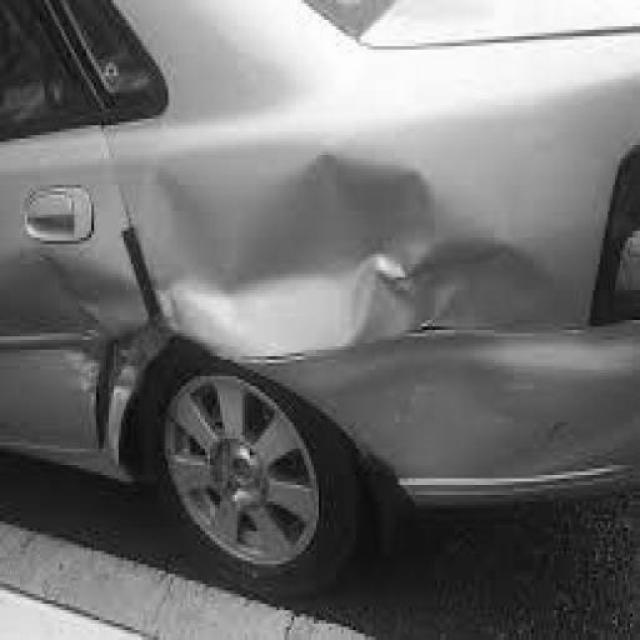crush: (33, 141, 563, 500)
